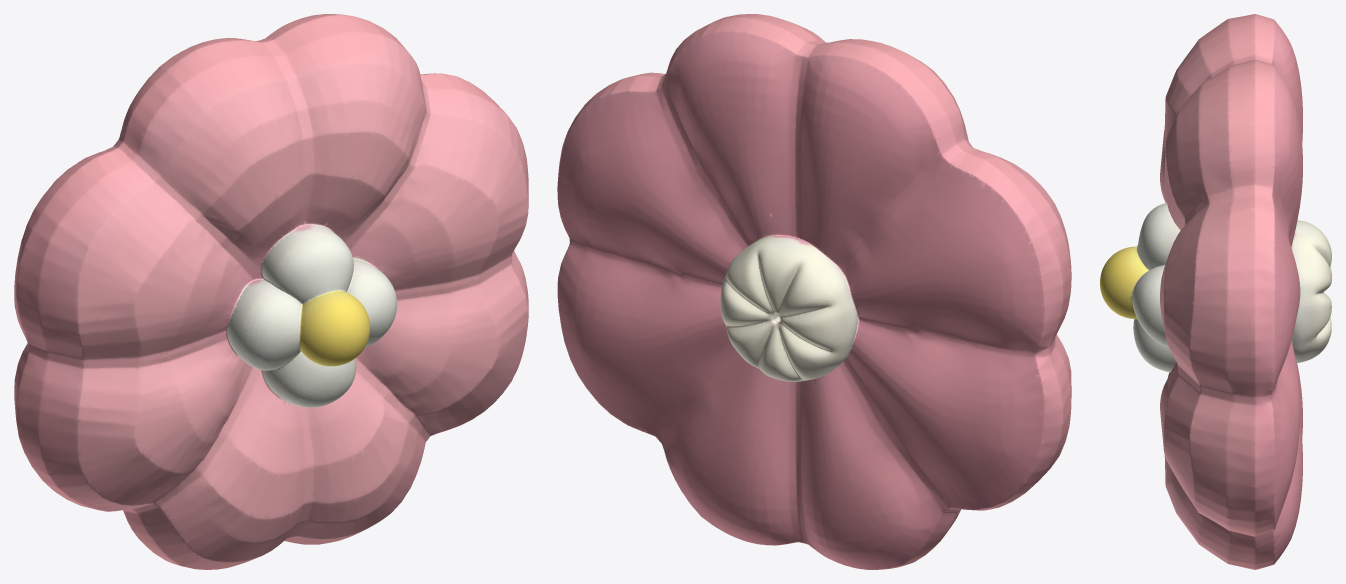
Rendered from Meshy_AI_Pink_Balloon_Flower_0520111536_texture.fbx.
3 renders of one model, left to right at view 1: azimuth 30°, elevation 25°; view 2: azimuth 150°, elevation 25°; view 3: azimuth 270°, elevation 25°, orthographic. The views are drawn at different scales.
Parts seen in each view (by area): view 1: Mesh_0; view 2: Mesh_0; view 3: Mesh_0.
Boxes of the visible parts, <box> form: Mesh_0: <box>14,14,528,569</box>; Mesh_0: <box>557,14,1071,569</box>; Mesh_0: <box>1100,14,1331,569</box>.
Size of the model in its own units: 190 by 188 by 80.54.
1 material, 1 textured.
